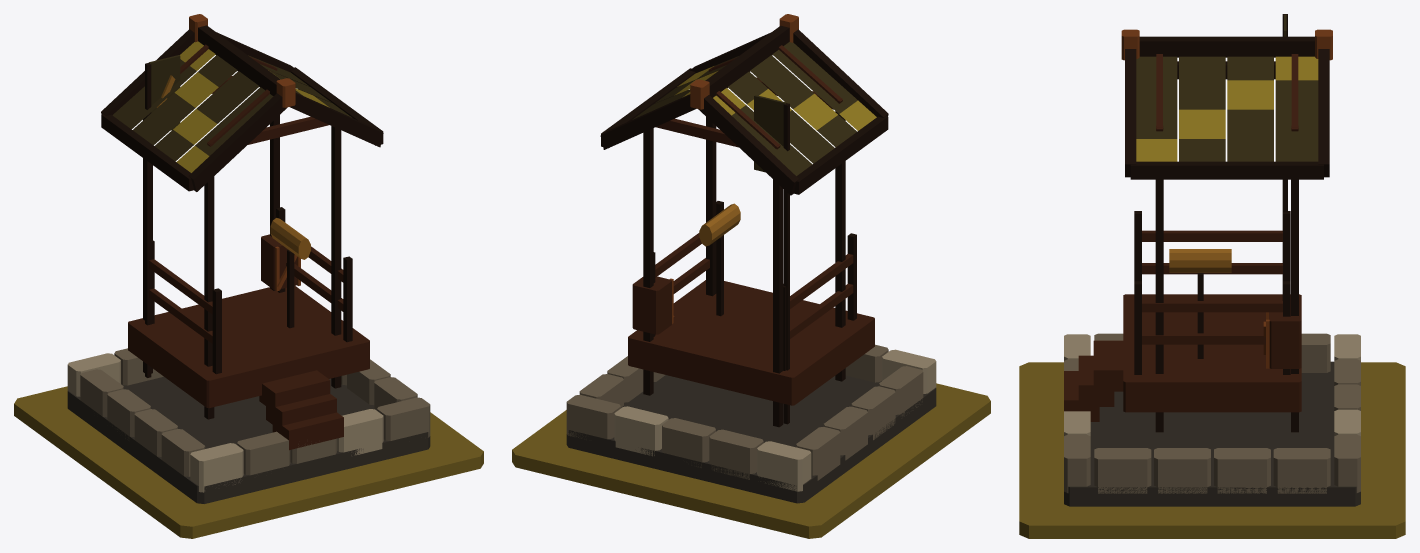
File: scout_post_t5.glb
The picture shows the model from 3 angles, left to right: view 1: azimuth 30°, elevation 25°; view 2: azimuth 150°, elevation 25°; view 3: azimuth 270°, elevation 25°; orthographic projection. The views are drawn at different scales.
Parts seen in each view (by area): view 1: MMR | scout_post | T05 Architecture.001, MMR | scout_post | Tier 05 Ground.001; view 2: MMR | scout_post | T05 Architecture.001, MMR | scout_post | Tier 05 Ground.001; view 3: MMR | scout_post | T05 Architecture.001, MMR | scout_post | Tier 05 Ground.001.
Part boxes in pixels (x1,y1,x2,y2): MMR | scout_post | T05 Architecture.001: (67,14,430,503); MMR | scout_post | Tier 05 Ground.001: (14,386,483,538); MMR | scout_post | T05 Architecture.001: (566,14,936,503); MMR | scout_post | Tier 05 Ground.001: (512,383,990,538); MMR | scout_post | T05 Architecture.001: (1064,14,1360,506); MMR | scout_post | Tier 05 Ground.001: (1019,362,1405,538).
Size of the model in its own units: 1.3 by 1.57 by 1.3.
1 material, 1 textured.
